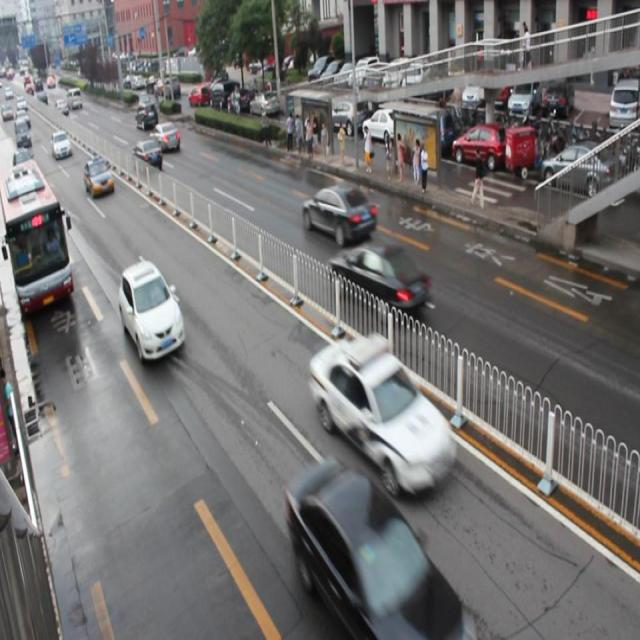car: (286, 462, 463, 640), (310, 333, 456, 500), (327, 243, 431, 321), (118, 261, 185, 365), (301, 185, 375, 244), (83, 155, 114, 197), (132, 137, 162, 172), (149, 121, 180, 153)
van: (1, 162, 74, 308)
